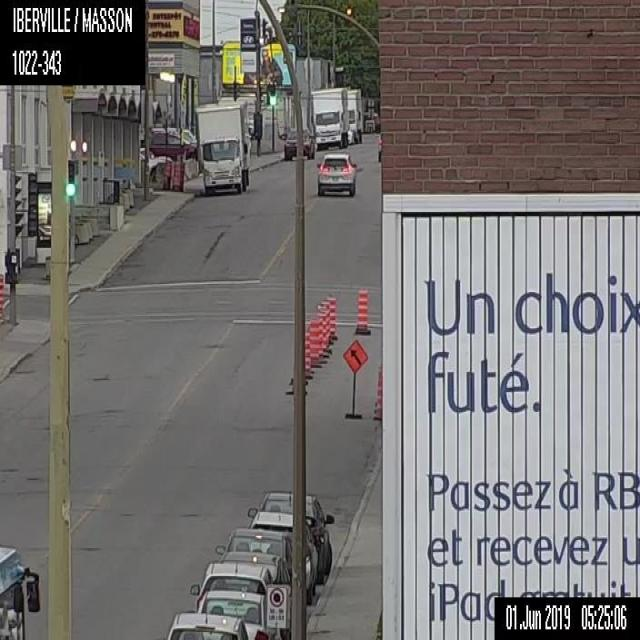bus: (0, 544, 41, 639)
construction: (341, 338, 367, 418), (315, 308, 329, 358), (355, 286, 368, 334), (309, 317, 321, 367), (171, 156, 185, 192), (374, 364, 381, 419), (304, 331, 312, 378), (329, 294, 337, 340), (0, 273, 4, 323)
vehicle: (249, 490, 333, 588), (242, 512, 318, 602), (196, 96, 249, 195), (189, 558, 276, 607), (215, 521, 290, 575), (196, 589, 277, 639), (310, 87, 348, 149), (168, 610, 244, 639), (316, 151, 356, 197), (144, 126, 198, 160), (282, 127, 314, 160), (346, 89, 364, 145), (376, 127, 382, 161)
